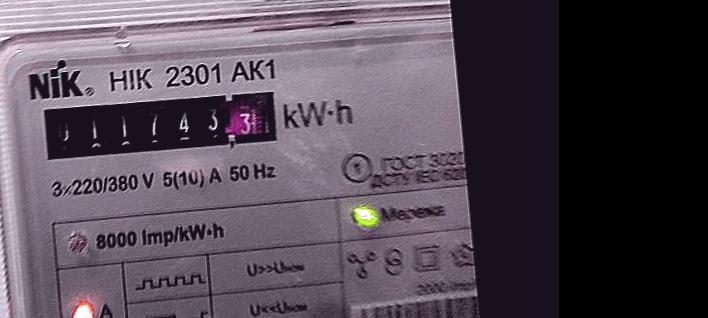0: (55, 113, 71, 142)
1: (116, 108, 130, 137), (87, 111, 99, 138)
3: (204, 102, 221, 130), (236, 108, 252, 134)
4: (175, 105, 191, 133)
7: (144, 105, 162, 134)
screen: (31, 74, 290, 171)
